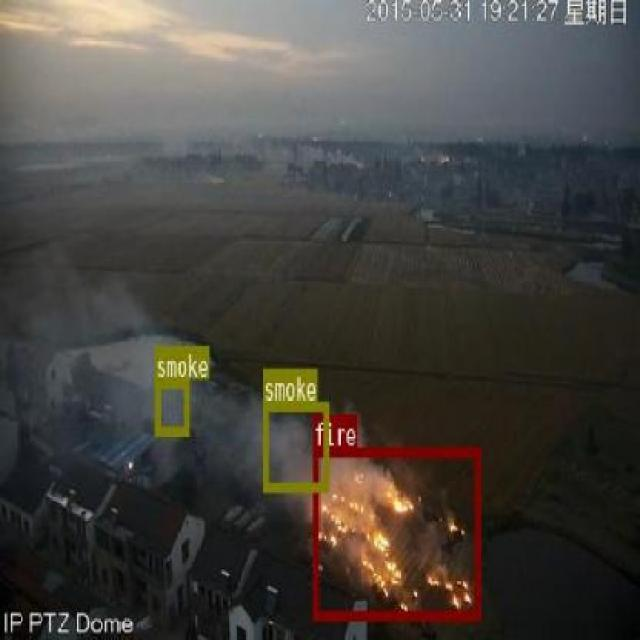Fire: (312, 446, 479, 620)
Smoke: (15, 249, 155, 377), (262, 401, 328, 490), (203, 380, 257, 475), (154, 378, 188, 434)
